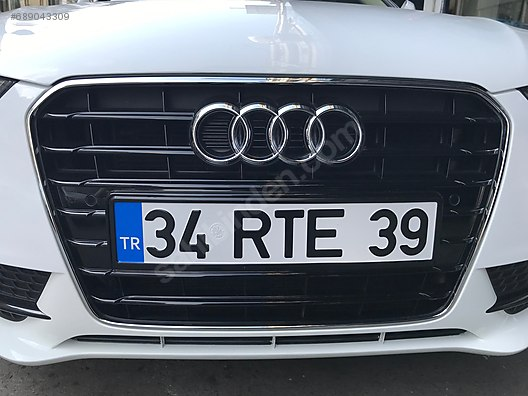audi: (180, 99, 369, 172)
